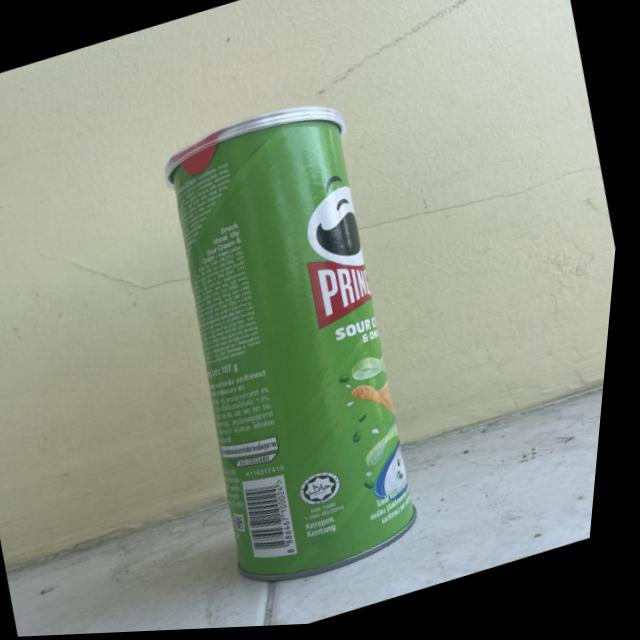a pringles: (122, 84, 469, 612)
